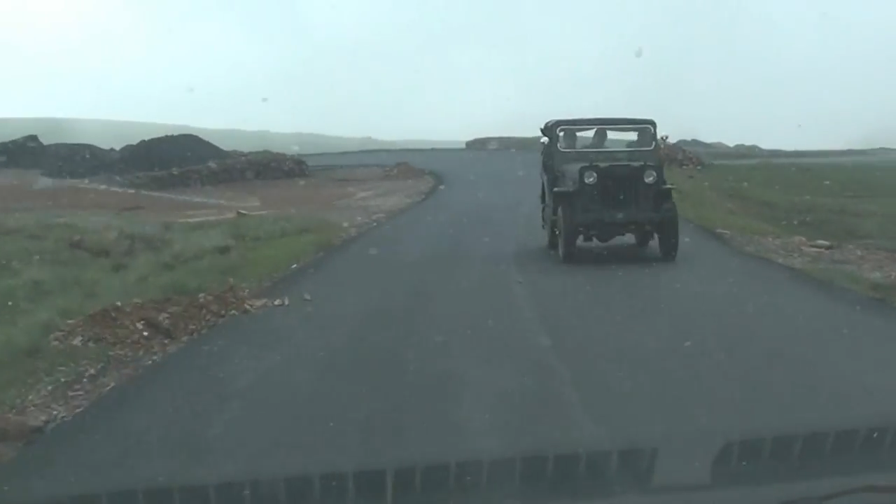car: (536, 115, 678, 263)
